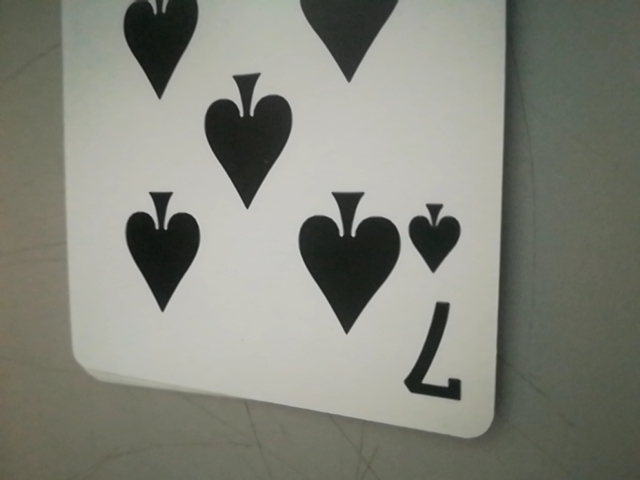ht 7: (403, 204, 468, 399)
